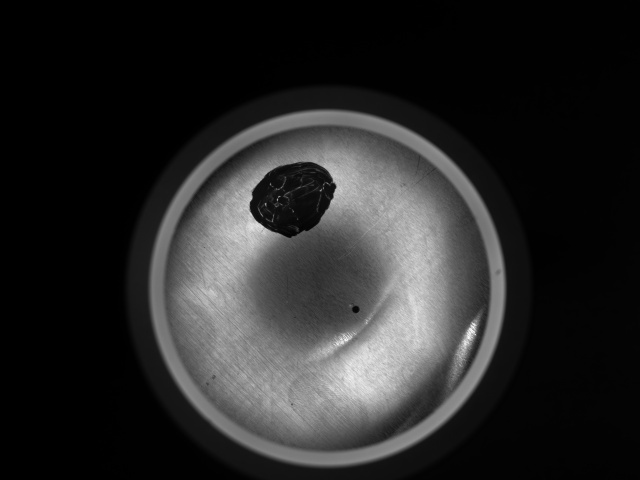zang_wu: (247, 158, 341, 239)
zhen_kong: (347, 301, 362, 315)
